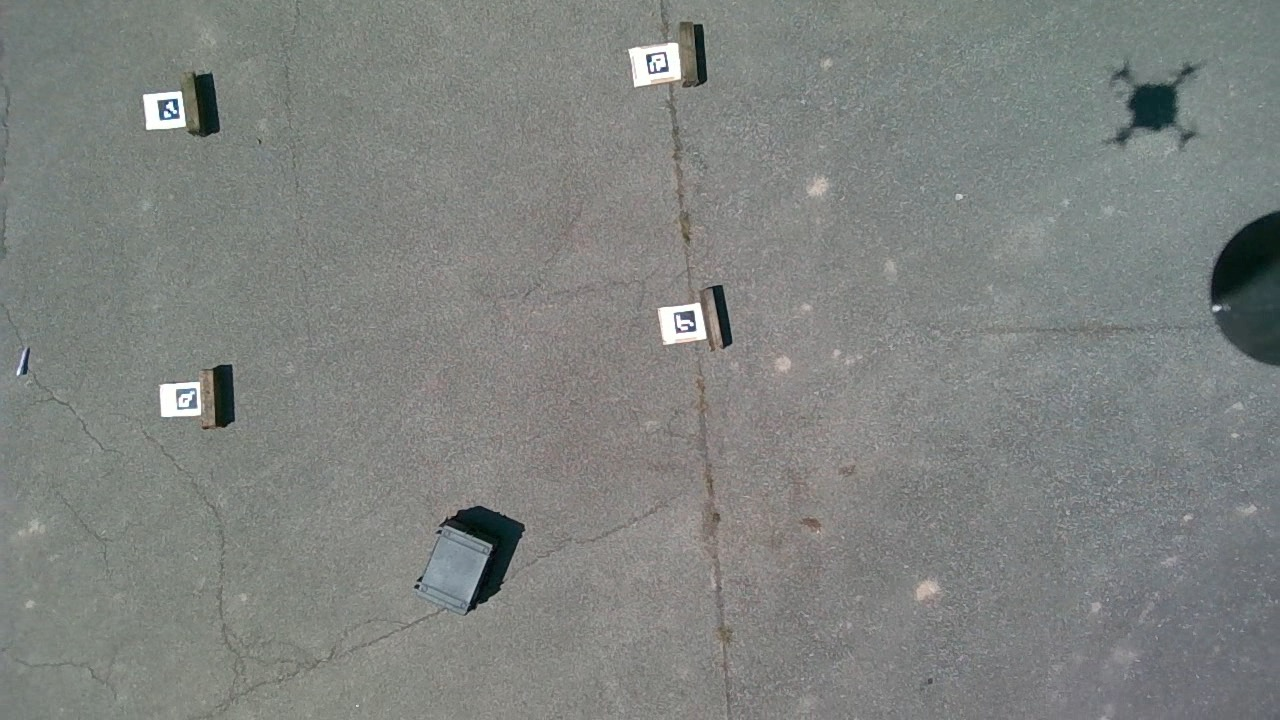probes: (16, 347, 29, 375)
rako: (415, 520, 493, 614)
